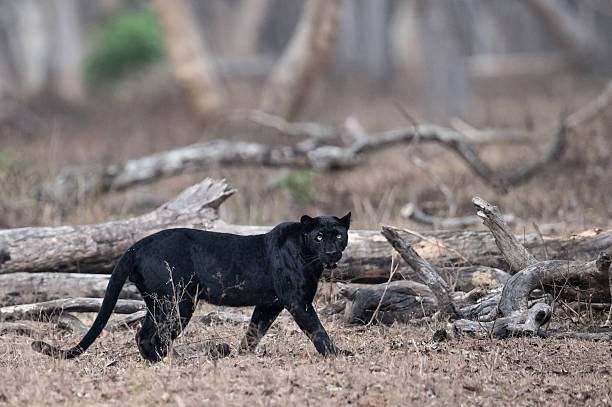panther: (293, 209, 359, 274)
